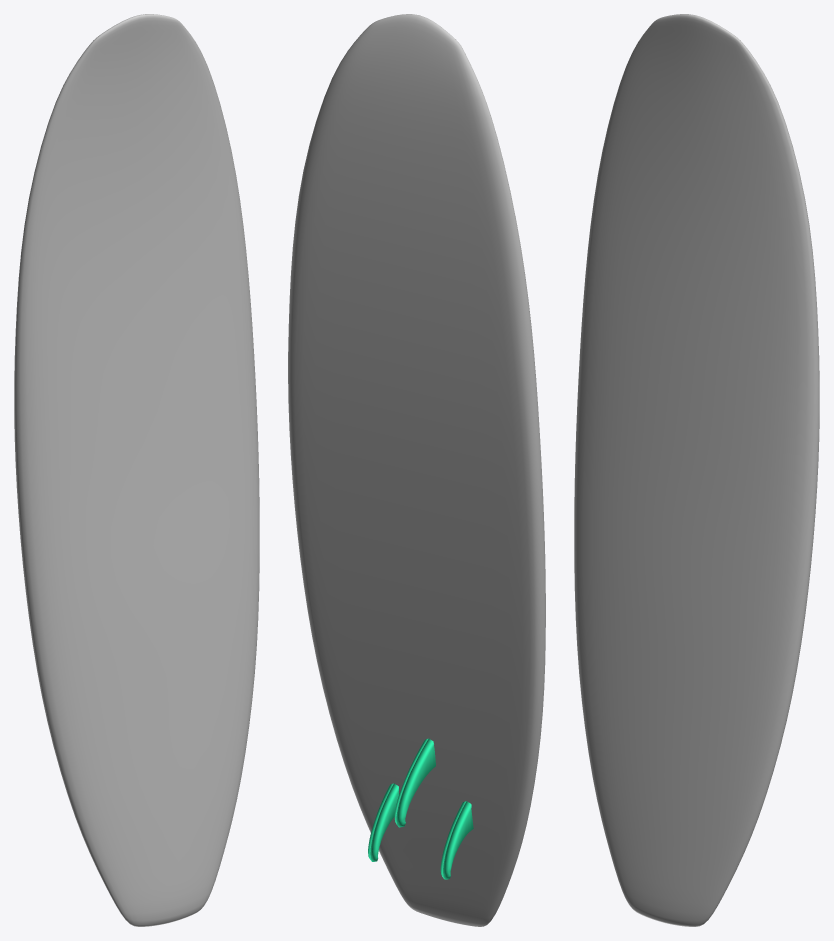
The model's file is surfboard_v4.obj.
The picture shows the model from 3 angles, left to right: view 1: azimuth 30°, elevation 25°; view 2: azimuth 150°, elevation 25°; view 3: azimuth 330°, elevation 25°; orthographic projection. The views are drawn at different scales.
Parts seen in each view (by area): view 1: fin.003; view 2: fin.003; view 3: fin.003.
Boxes of the visible parts, <box> form: fin.003: <box>14,14,259,926</box>; fin.003: <box>288,14,545,926</box>; fin.003: <box>574,14,819,926</box>.
Bounding box in the file's own units: 0.86 × 3.05 × 0.3278.
